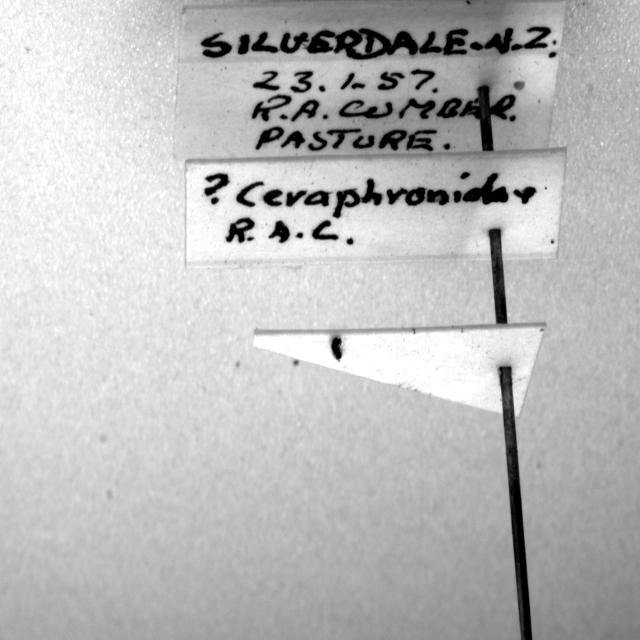hand_label: (174, 2, 565, 158), (185, 148, 566, 268)
